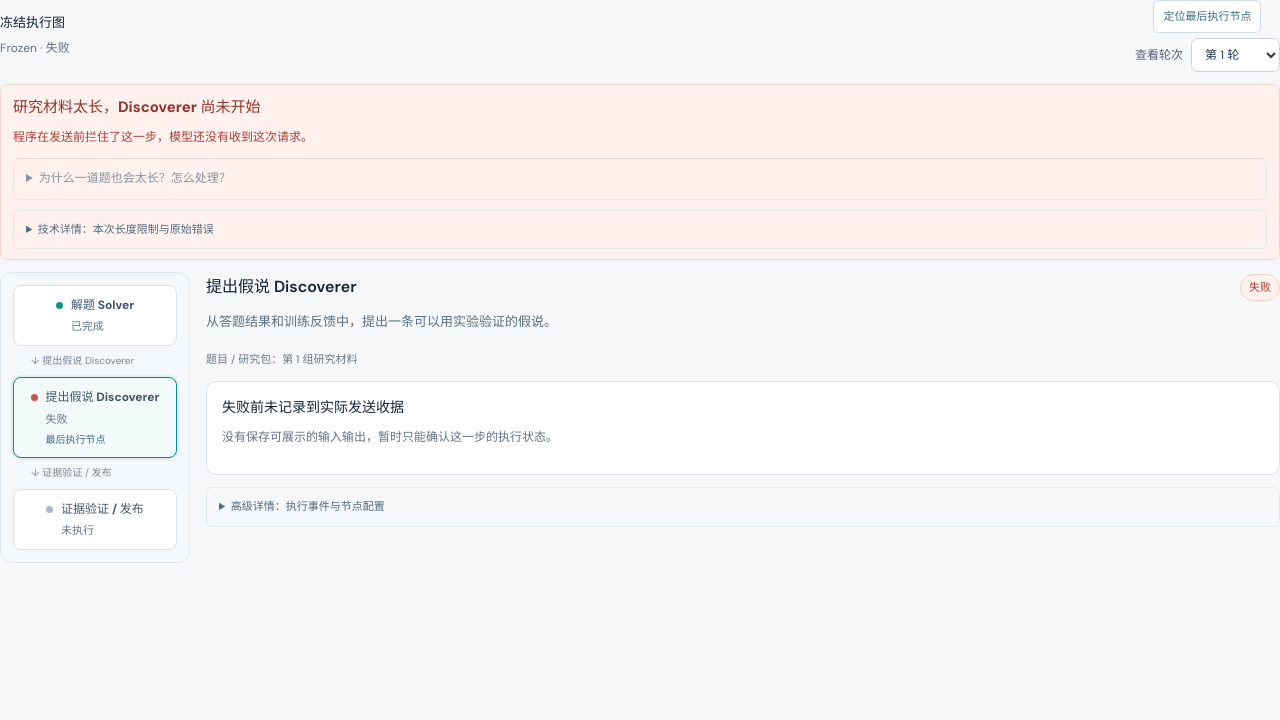
Scenario: keeps a verified role result folded when an authoritative wire output already exists
Click the button with aria-label "解题 Solver · 已完成" at (95, 316), box [13,285,177,346]
(page scrolled)
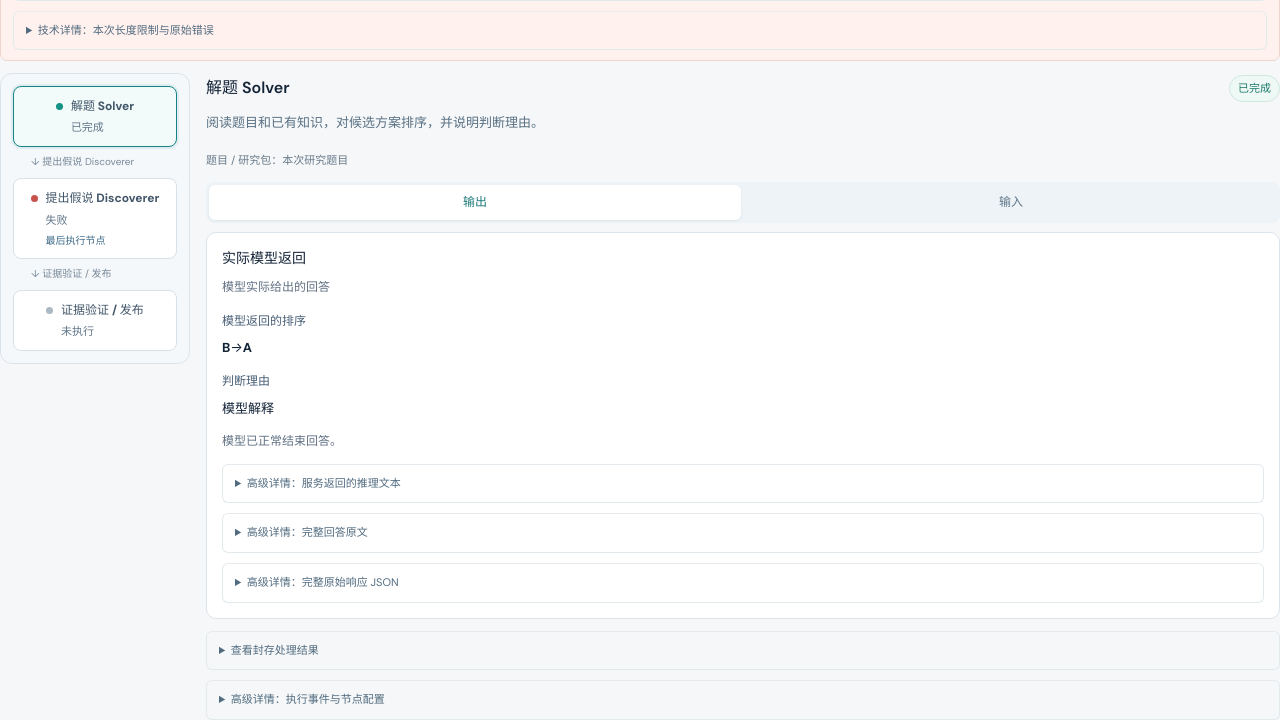
Expected: the text "模型解释" is shown, [222,400,274,417]
